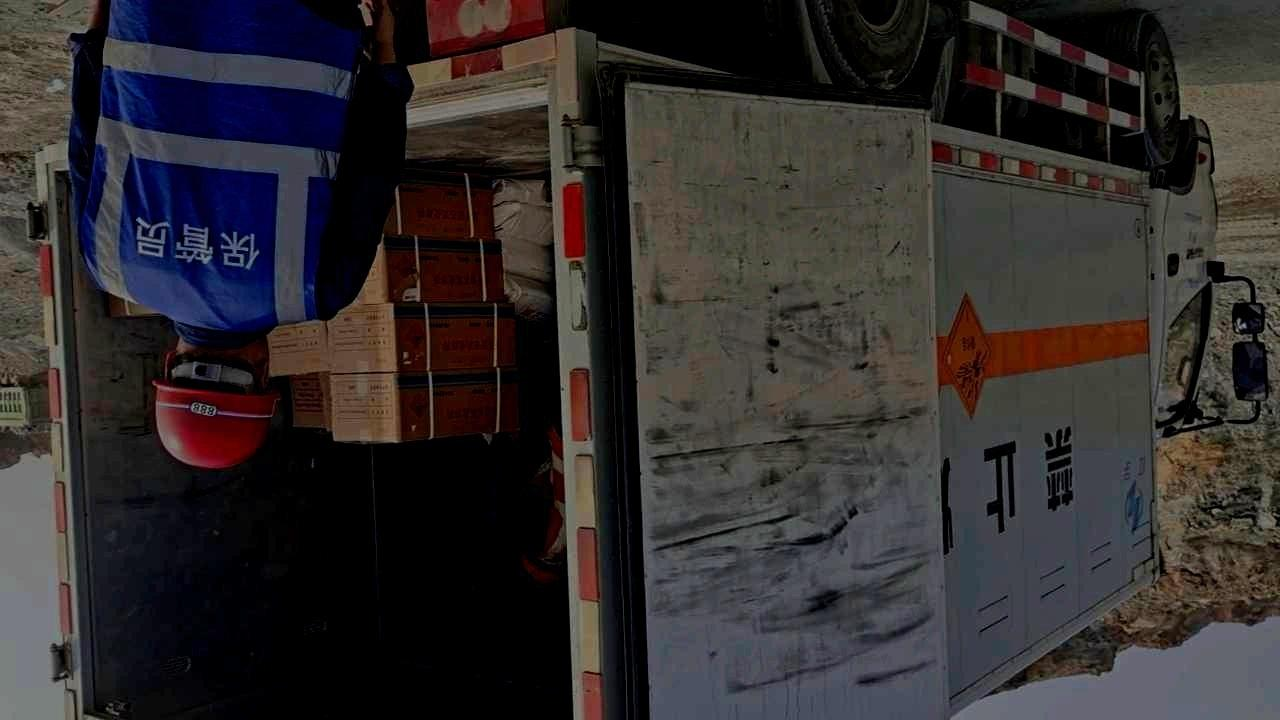helmet: (151, 333, 281, 469)
